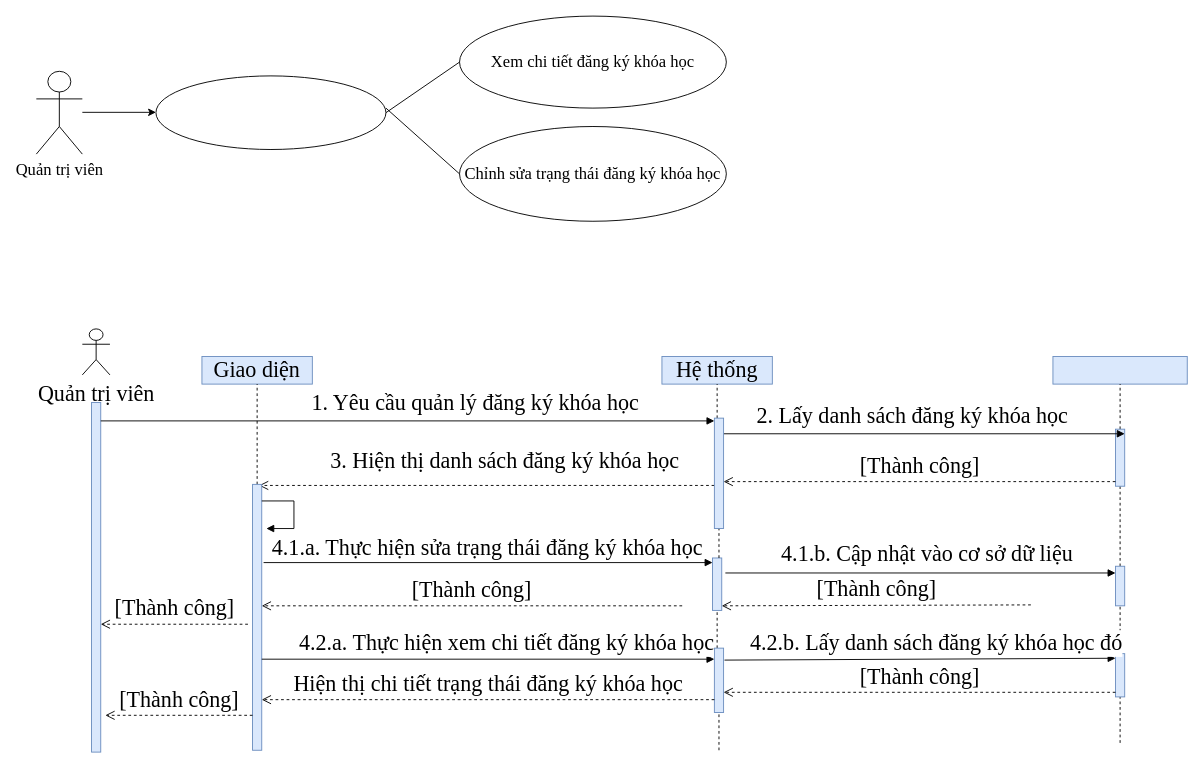
This 1203x768 diagram has some shape labels left out. Here are the shapes that lost their labels. From the top down, the box of each, then its label:
(155, 75, 386, 150): Quản lý đăng ký khóa học
(1052, 356, 1187, 384): Cơ sở dữ liệu
